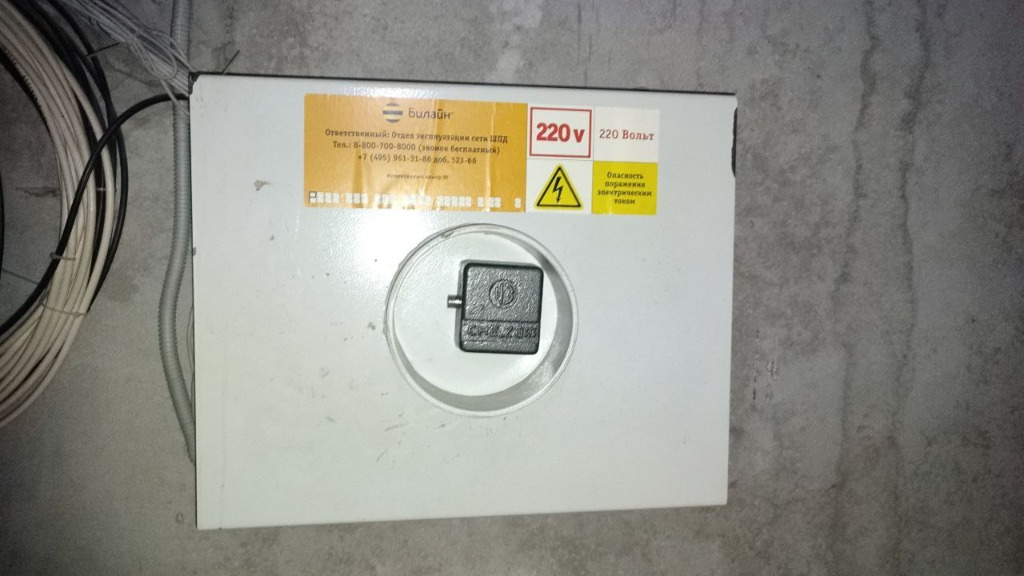shta-3: (186, 66, 742, 531)
